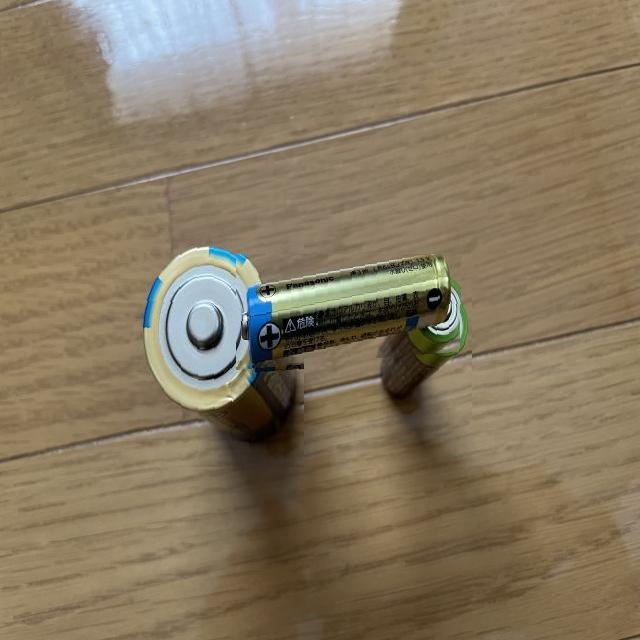battery: (137, 232, 304, 467), (236, 254, 462, 370), (370, 278, 472, 422)
